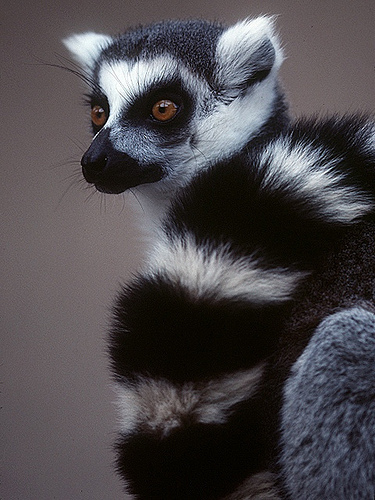cat: (36, 8, 373, 498)
